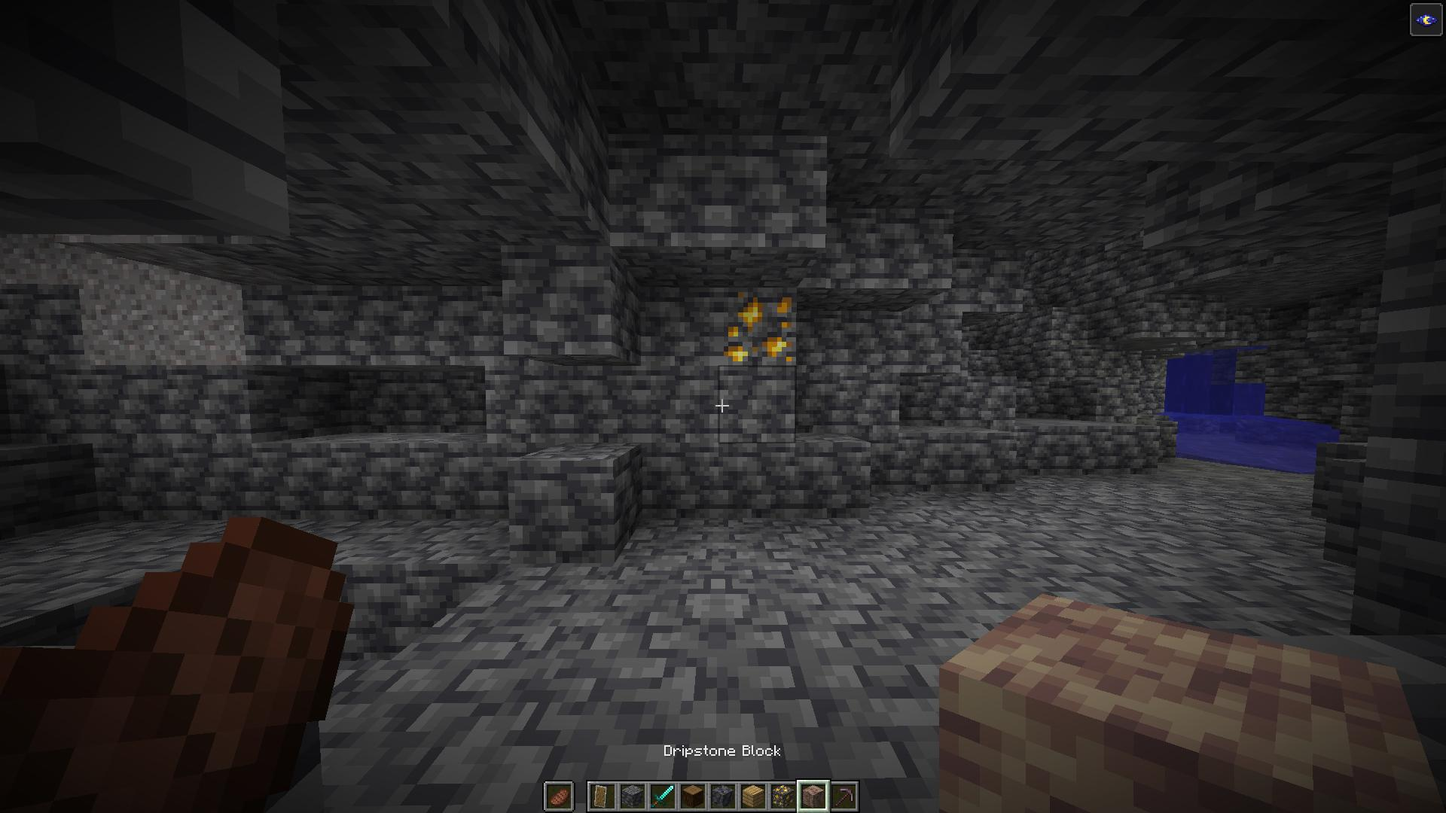gold ore: (705, 287, 797, 367)
